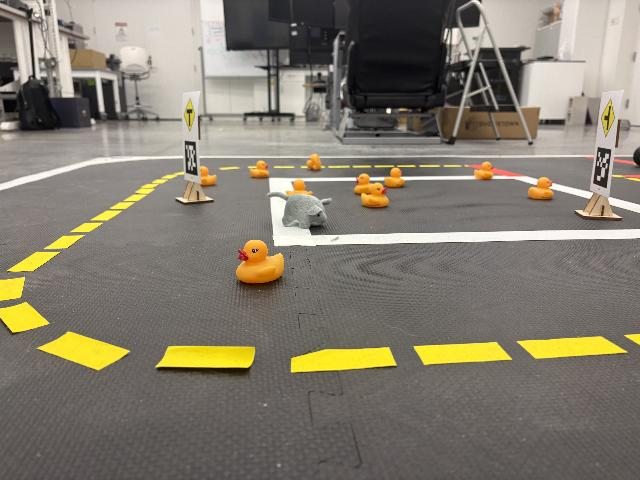duck: (236, 240, 284, 287), (360, 182, 389, 209), (528, 177, 554, 200), (284, 178, 313, 196), (354, 173, 377, 195), (384, 167, 405, 188), (474, 161, 494, 180), (199, 166, 217, 186), (250, 161, 270, 178), (306, 155, 321, 170)
l_intersection: (601, 98, 615, 137)
redline: (468, 164, 524, 176), (583, 156, 635, 165), (622, 175, 640, 178)
t_intersection: (184, 97, 196, 131)
whiteline: (275, 230, 640, 246), (519, 175, 640, 215), (1, 157, 113, 192), (103, 155, 634, 161), (269, 177, 313, 246), (269, 176, 530, 180)
yellowline: (6, 175, 178, 272), (291, 332, 640, 374), (35, 330, 259, 374), (0, 276, 51, 333), (220, 164, 463, 171)
